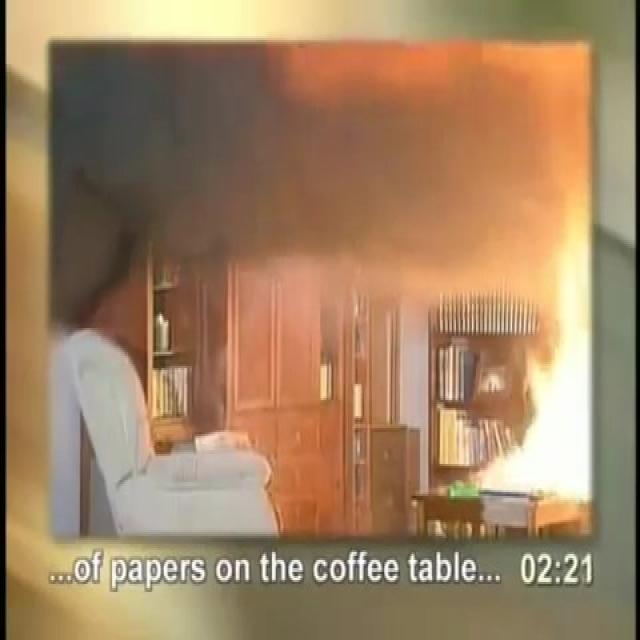Fire: (489, 220, 594, 500)
